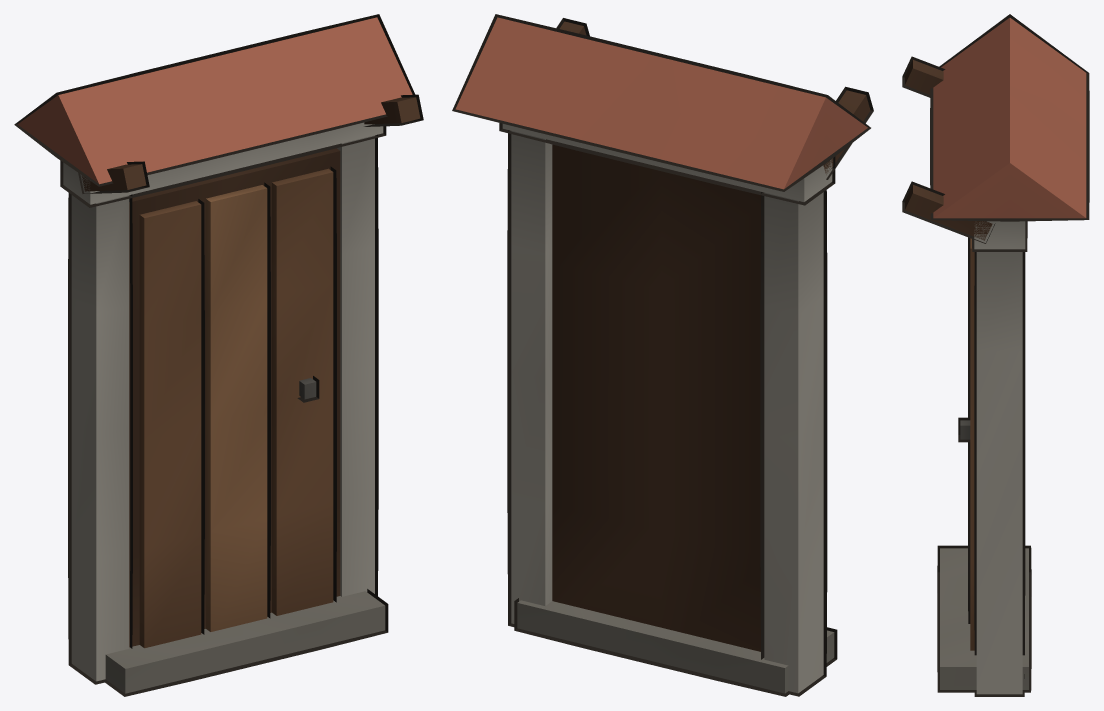
The model's file is porte_auvent.glb.
The picture shows the model from 3 angles, left to right: view 1: azimuth 30°, elevation 25°; view 2: azimuth 150°, elevation 25°; view 3: azimuth 270°, elevation 25°; orthographic projection. The views are drawn at different scales.
Parts seen in each view (by area): view 1: porte_auvent, porte_auvent_outline; view 2: porte_auvent, porte_auvent_outline; view 3: porte_auvent, porte_auvent_outline.
Boxes of the visible parts, box(x1,y1,x2,y2) form: porte_auvent: box(18, 17, 420, 693); porte_auvent_outline: box(14, 14, 423, 696); porte_auvent: box(455, 17, 870, 693); porte_auvent_outline: box(452, 14, 873, 696); porte_auvent: box(905, 18, 1086, 694); porte_auvent_outline: box(902, 14, 1089, 696).
Bounding box in the file's own units: 1.37 × 2.36 × 0.736.
